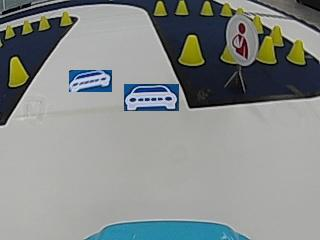cone: (178, 34, 204, 67), (7, 57, 28, 87), (257, 37, 276, 63), (287, 40, 306, 65), (271, 25, 283, 45), (153, 1, 167, 16), (200, 1, 213, 15), (175, 1, 188, 15), (38, 15, 50, 30), (59, 11, 71, 26), (21, 19, 33, 34), (253, 14, 263, 32), (220, 2, 232, 16), (4, 24, 15, 38)
patient: (231, 13, 257, 61)
